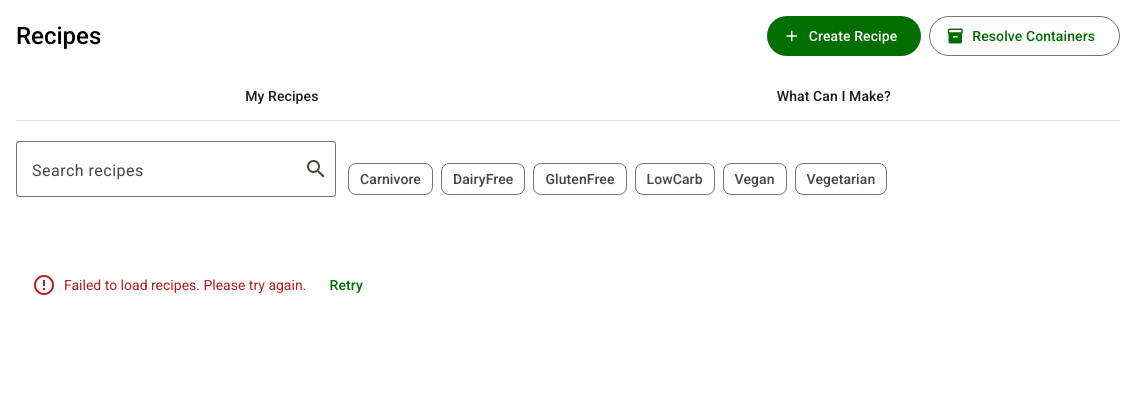
RecipeBrowserComponent › clears the error state and shows data after a successful retry
Click the button "Retry" at (346, 285), box left=314, top=265, right=378, bottom=305
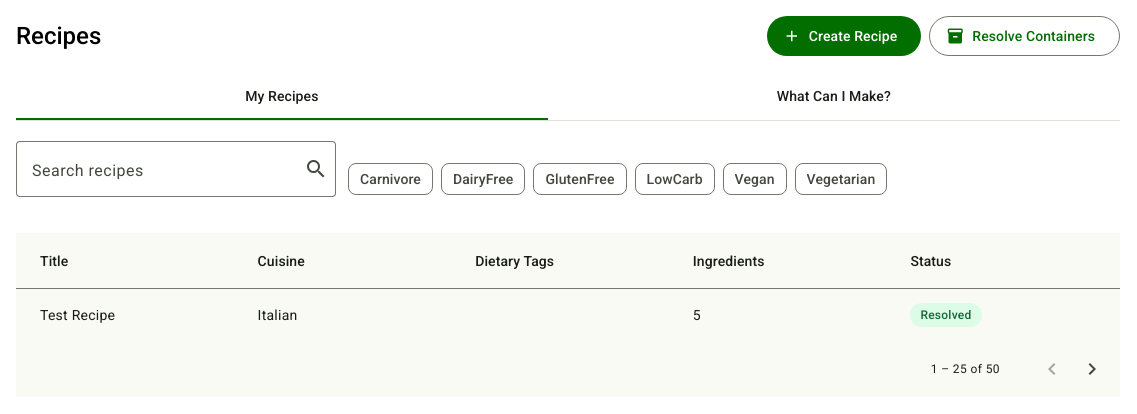
expect the element with class "error-message" is gone: met
